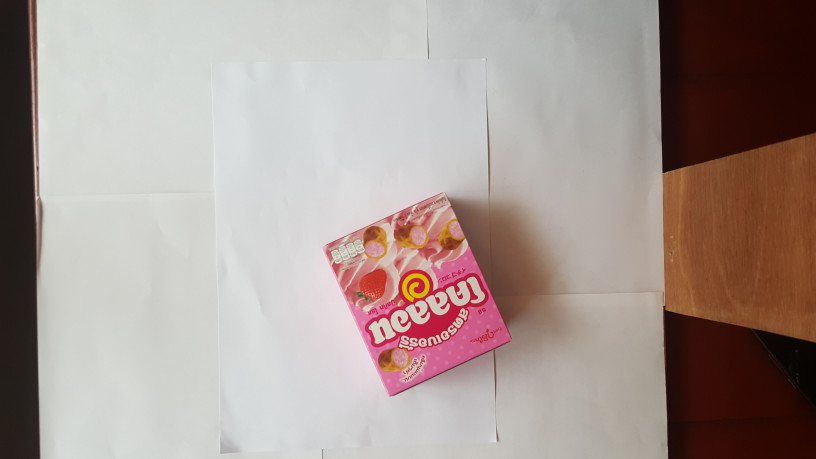collon-strawberry: (322, 190, 512, 398)
